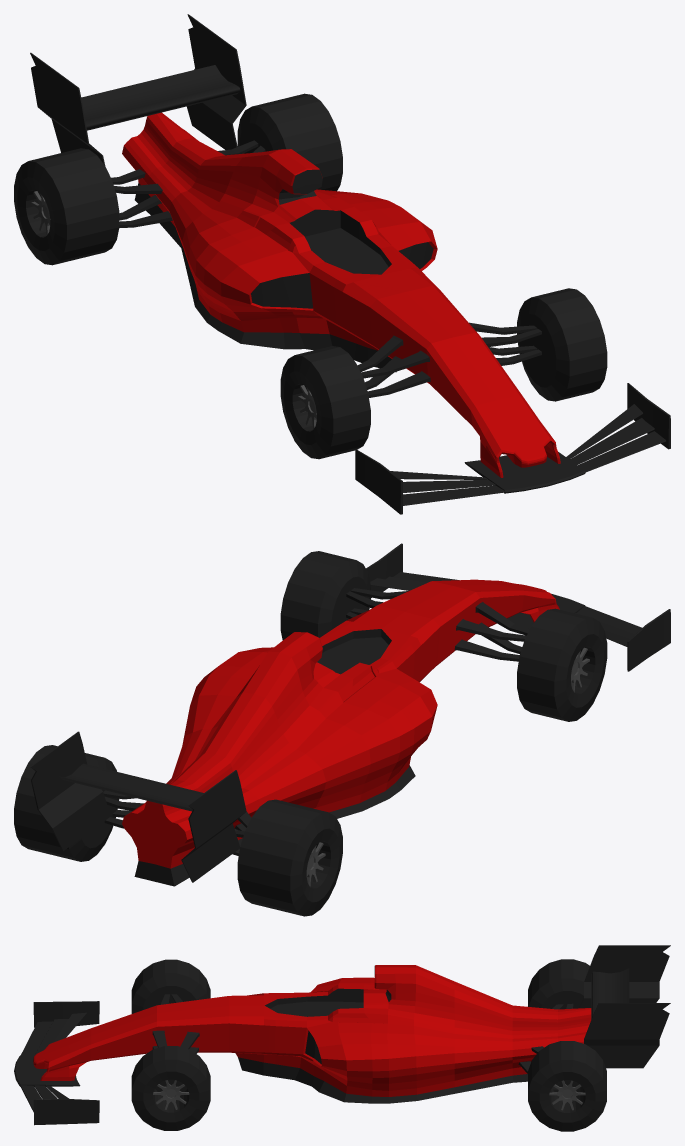
3 views of the same model, one above another, from view 1: azimuth 30°, elevation 25°; view 2: azimuth 150°, elevation 25°; view 3: azimuth 270°, elevation 25° (orthographic). The views are drawn at different scales.
Visible parts, largest first — view 1: Low_Poly_Formula1_Car_01_Body_2, Low_Poly_Formula1_Car_01_Wheel_Back_Right_4, Low_Poly_Formula1_Car_01_Wheel_Front_Right_6, Low_Poly_Formula1_Car_01_Wheel_Front_Left_5, Low_Poly_Formula1_Car_01_Wheel_Back_Left_3; view 2: Low_Poly_Formula1_Car_01_Body_2, Low_Poly_Formula1_Car_01_Wheel_Back_Right_4, Low_Poly_Formula1_Car_01_Wheel_Front_Right_6, Low_Poly_Formula1_Car_01_Wheel_Front_Left_5, Low_Poly_Formula1_Car_01_Wheel_Back_Left_3; view 3: Low_Poly_Formula1_Car_01_Body_2, Low_Poly_Formula1_Car_01_Wheel_Back_Left_3, Low_Poly_Formula1_Car_01_Wheel_Front_Left_5, Low_Poly_Formula1_Car_01_Wheel_Front_Right_6, Low_Poly_Formula1_Car_01_Wheel_Back_Right_4.
Boxes of the visible parts, x1,y1,x2,y2 form: Low_Poly_Formula1_Car_01_Body_2: (30, 14, 670, 514); Low_Poly_Formula1_Car_01_Wheel_Back_Right_4: (14, 148, 119, 265); Low_Poly_Formula1_Car_01_Wheel_Front_Right_6: (280, 346, 370, 459); Low_Poly_Formula1_Car_01_Wheel_Front_Left_5: (517, 288, 607, 401); Low_Poly_Formula1_Car_01_Wheel_Back_Left_3: (237, 93, 342, 191); Low_Poly_Formula1_Car_01_Body_2: (30, 543, 670, 886); Low_Poly_Formula1_Car_01_Wheel_Back_Right_4: (237, 799, 342, 916); Low_Poly_Formula1_Car_01_Wheel_Front_Right_6: (517, 608, 607, 721); Low_Poly_Formula1_Car_01_Wheel_Front_Left_5: (280, 551, 370, 640); Low_Poly_Formula1_Car_01_Wheel_Back_Left_3: (14, 745, 119, 861); Low_Poly_Formula1_Car_01_Body_2: (14, 945, 670, 1125); Low_Poly_Formula1_Car_01_Wheel_Back_Left_3: (528, 1041, 606, 1131); Low_Poly_Formula1_Car_01_Wheel_Front_Left_5: (131, 1046, 210, 1130); Low_Poly_Formula1_Car_01_Wheel_Front_Right_6: (131, 959, 210, 1013); Low_Poly_Formula1_Car_01_Wheel_Back_Right_4: (528, 959, 589, 1009).
Bounding box in the file's own units: 5.9 × 3.02 × 15.77.
